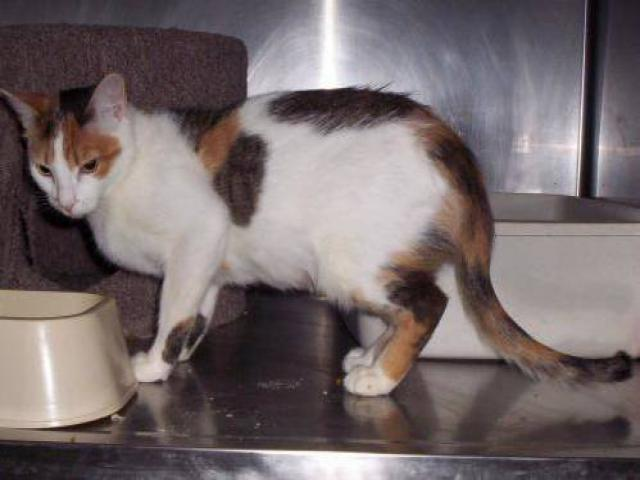cat: (15, 54, 610, 392)
